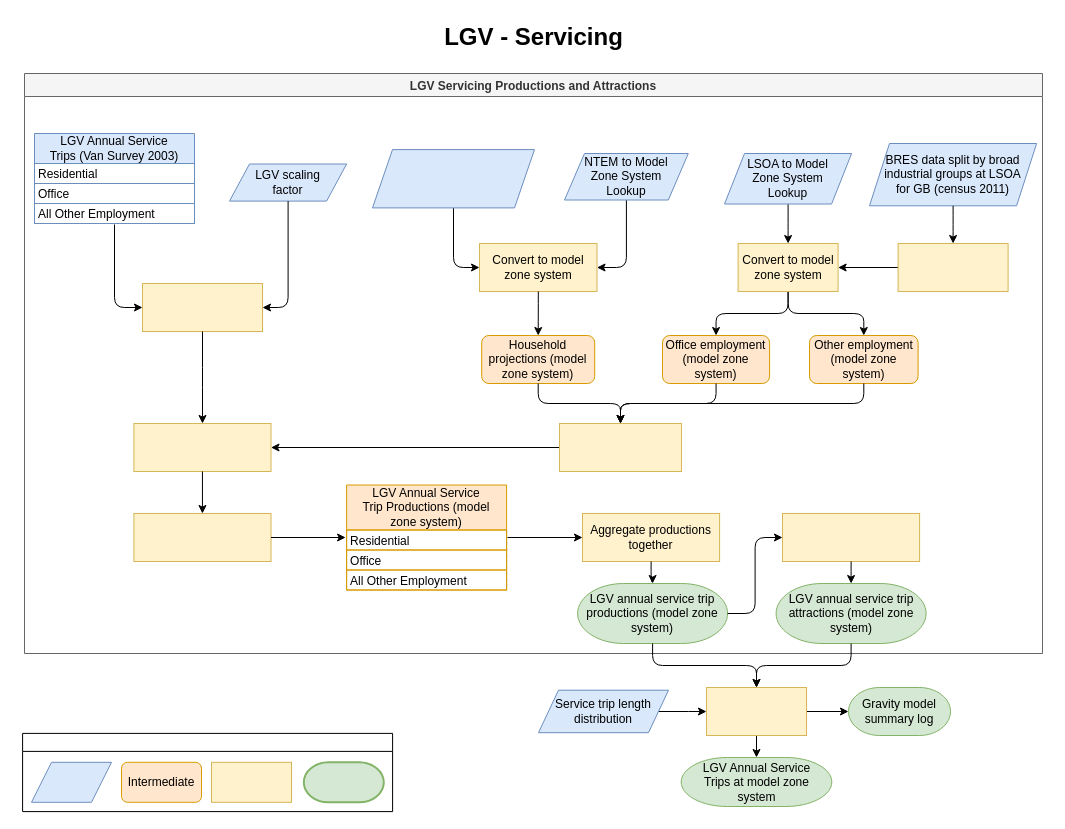
This 1065x829 diagram has some shape labels left out. Here are the shapes that lost their labels. From the top down, the box of each, then its label:
(372, 149, 534, 208): Household Projections from NTEM for GB (model year)
(897, 242, 1008, 292): Aggregate into office (I - P) and other employment
(142, 282, 262, 332): Scale van survey data to model year
(133, 422, 271, 472): Assign trip ends to model zones based on relevant proportions
(558, 422, 682, 472): Calculate proportion for each zone
(133, 512, 271, 562): Divide trip ends by 2 to get trip productions
(782, 512, 920, 562): Duplicate productions to create attractions
(706, 686, 806, 736): Gravity Model
(30, 761, 112, 802): Inputs
(22, 732, 393, 812): Key
(210, 761, 292, 802): Process
(302, 761, 384, 803): Outputs
